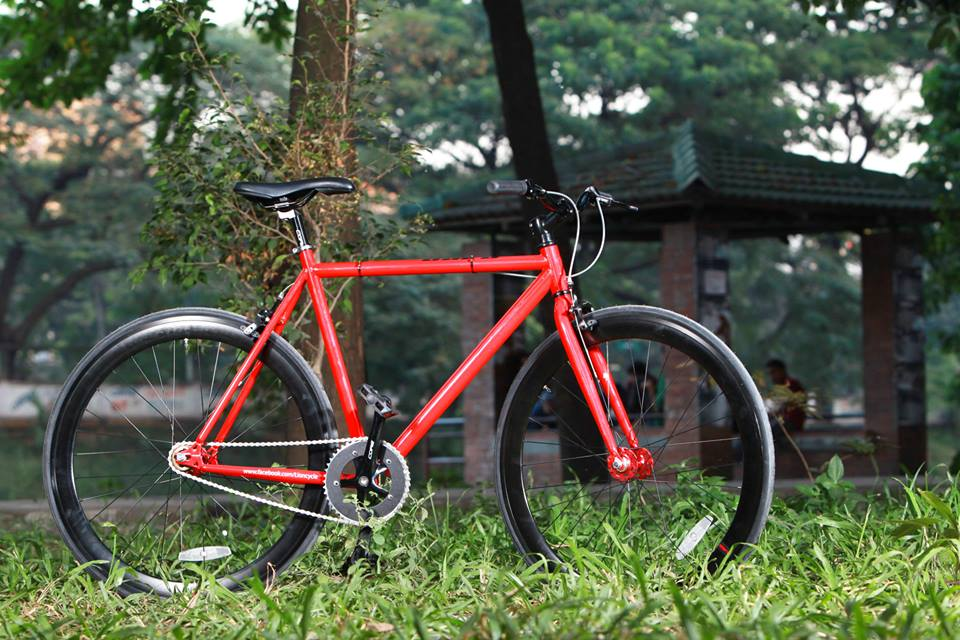bicycle: (45, 178, 775, 588)
